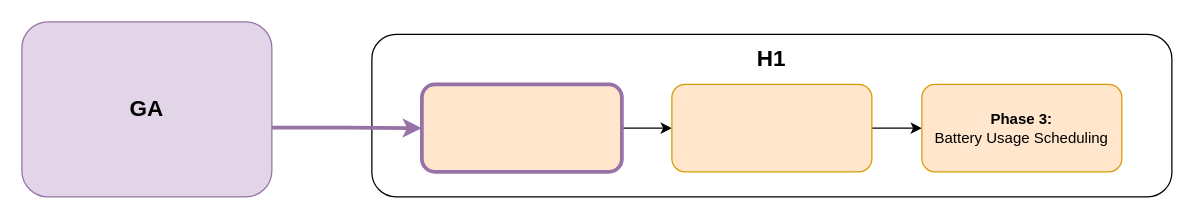
This 1194x219 diagram has some shape labels left out. Here are the shapes that lost their labels. From the top down, the centre of each, then its label:
At [521,127]: "Phase 1: Task Scheduling".
At [771,127]: "Phase 2: Machine State Scheduling".
